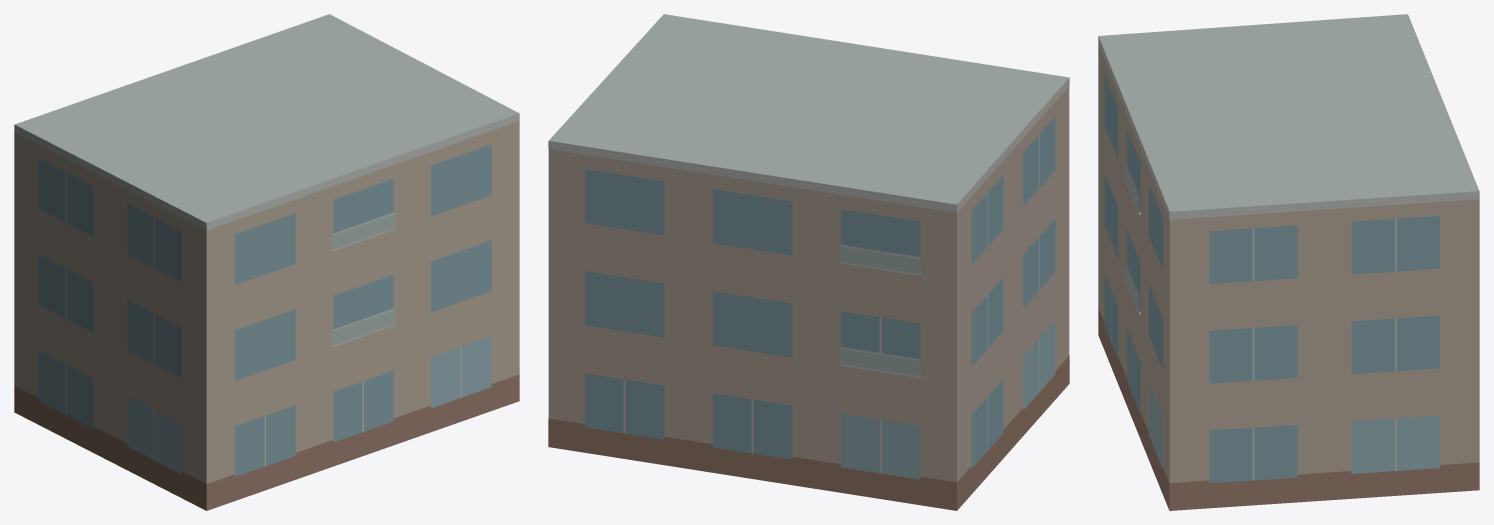
The model's file is survey-upis-32987127.glb.
3 views of the same model, side by side, from view 1: azimuth 30°, elevation 25°; view 2: azimuth 150°, elevation 25°; view 3: azimuth 270°, elevation 25° (orthographic). The views are drawn at different scales.
Parts seen in each view (by area): view 1: survey-upis-32987127.tmp; view 2: survey-upis-32987127.tmp; view 3: survey-upis-32987127.tmp.
Boxes of the visible parts, <box> form: survey-upis-32987127.tmp: <box>14,14,519,510</box>; survey-upis-32987127.tmp: <box>548,14,1069,510</box>; survey-upis-32987127.tmp: <box>1098,14,1479,510</box>.
Size of the model in its own units: 12.99 by 9.15 by 10.58.
